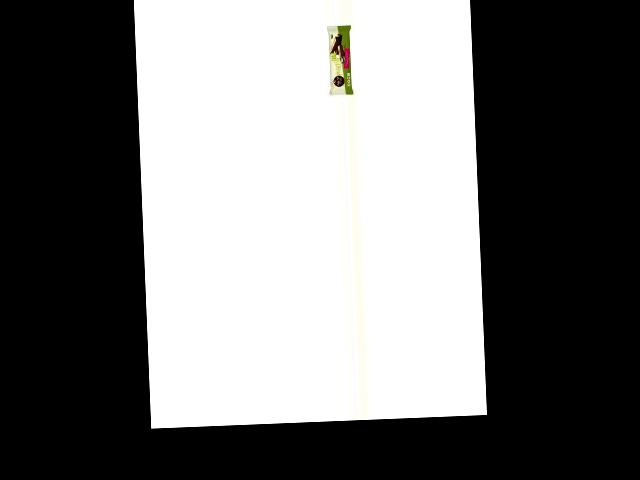chocolate: (324, 23, 356, 95)
